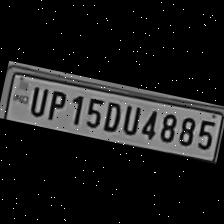1: (61, 89, 86, 127)
4: (134, 104, 160, 142)
5: (78, 92, 106, 130), (192, 116, 216, 152)
8: (154, 107, 180, 144), (172, 112, 197, 148)
D: (97, 96, 124, 133)
P: (42, 85, 70, 124)
U: (24, 82, 50, 118), (119, 100, 144, 136)
